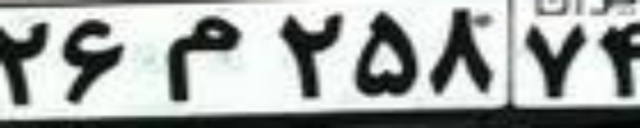2: (277, 10, 344, 98), (0, 20, 52, 106)
4: (596, 21, 638, 98)
5: (357, 10, 417, 95)
6: (62, 17, 123, 105)
7: (523, 20, 587, 98)
8: (430, 7, 493, 94)
mim: (166, 14, 245, 101)
